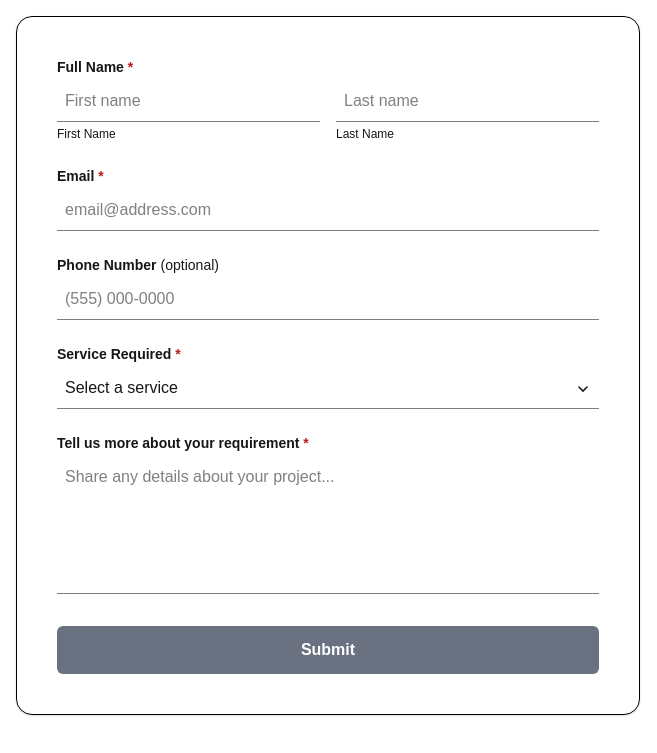
ContactForm › shows phone validation error when a malformed number is entered
The image size is (657, 753).
Type "12345" into the field with placeholder "(555) 000-0000" at coordinates (328, 300), box x1=57 y1=279 x2=599 y2=320
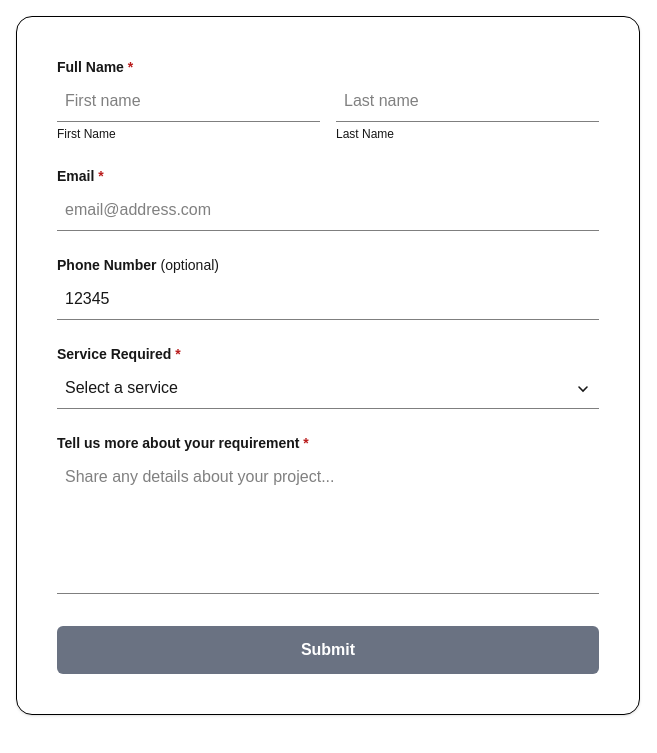
Leave the field with placeholder "(555) 000-0000", box x1=57 y1=279 x2=599 y2=320
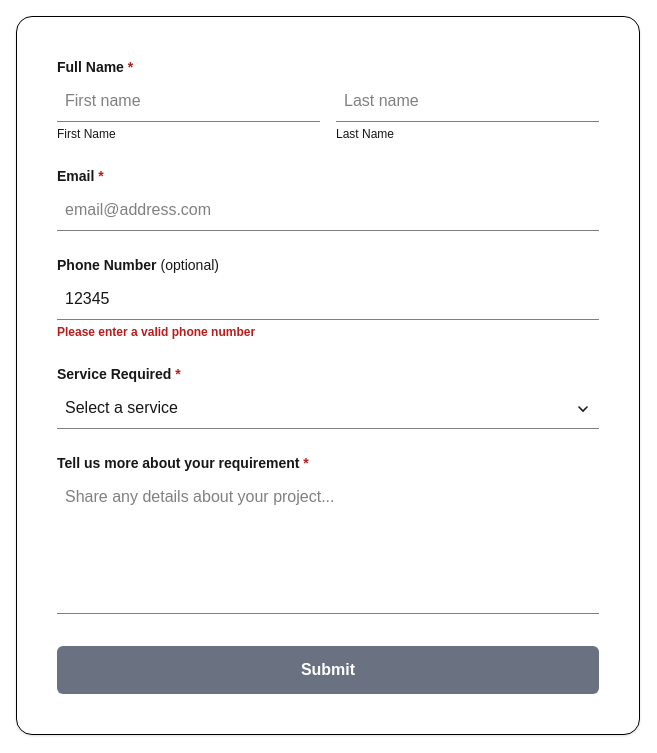
Expected: the text "Please enter a valid phone number" is shown, x1=57 y1=325 x2=255 y2=339
